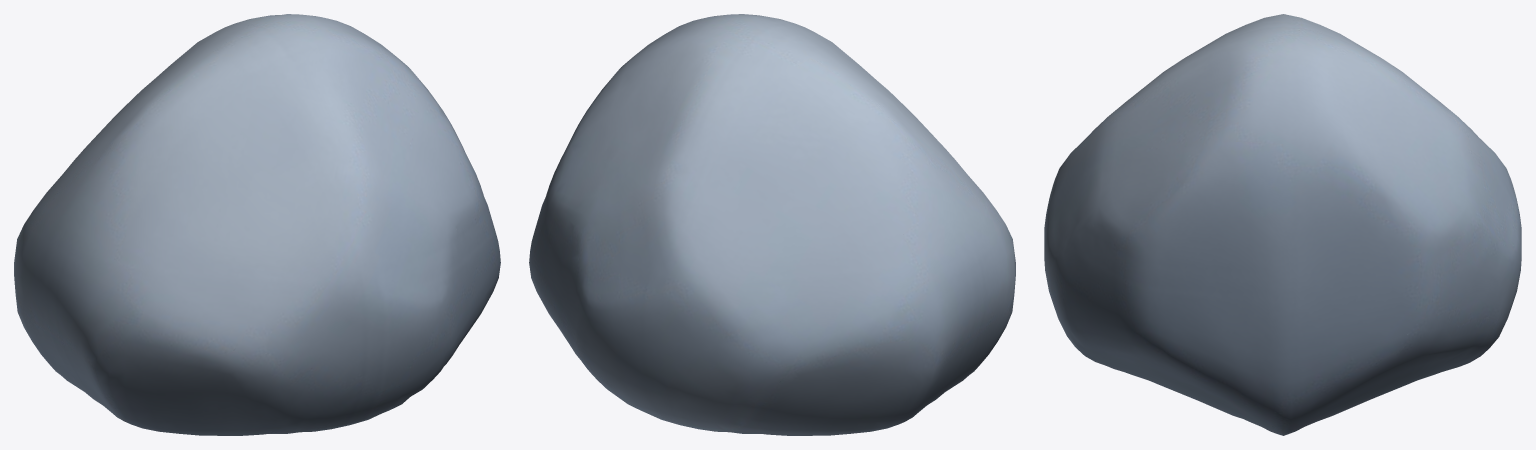
File: rock.glb
3 views of the same model, side by side, from view 1: azimuth 30°, elevation 25°; view 2: azimuth 150°, elevation 25°; view 3: azimuth 270°, elevation 25° (orthographic).
Visible parts, largest first — view 1: tripo_node_4720c65d-00fb-4235-a750-3d8e9ea5f16a; view 2: tripo_node_4720c65d-00fb-4235-a750-3d8e9ea5f16a; view 3: tripo_node_4720c65d-00fb-4235-a750-3d8e9ea5f16a.
Part boxes in pixels (x1=…): tripo_node_4720c65d-00fb-4235-a750-3d8e9ea5f16a: x1=14, y1=14, x2=500, y2=435; tripo_node_4720c65d-00fb-4235-a750-3d8e9ea5f16a: x1=529, y1=14, x2=1015, y2=435; tripo_node_4720c65d-00fb-4235-a750-3d8e9ea5f16a: x1=1044, y1=14, x2=1521, y2=435.
Size of the model in its own units: 0.9978 by 0.783 by 0.9822.
1 material, 1 textured.
